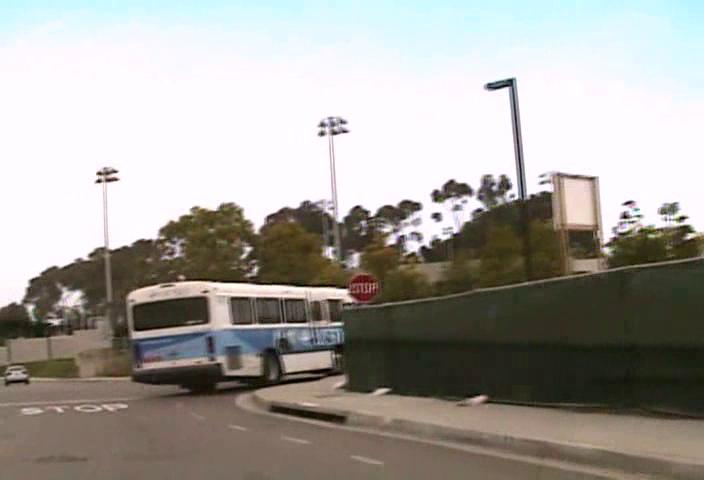stop: (348, 272, 380, 303)
